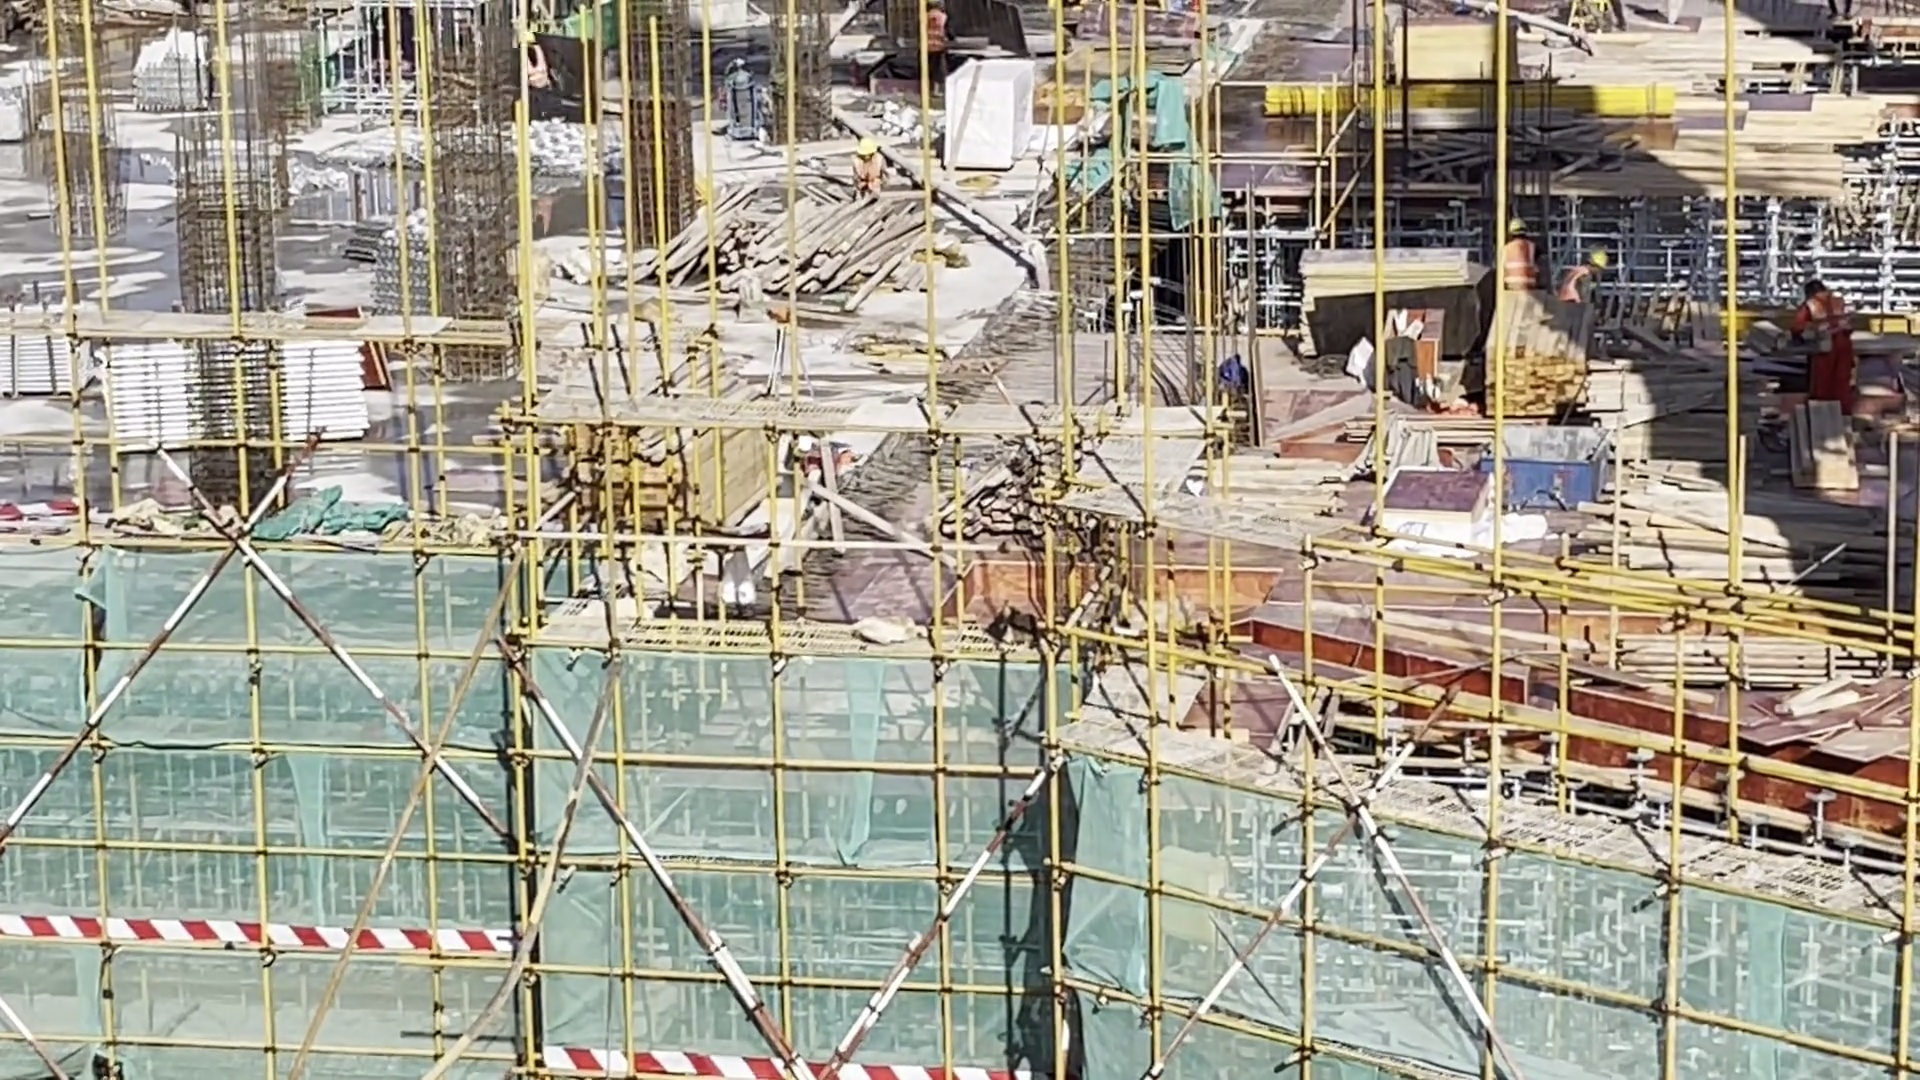board: (1729, 665, 1919, 775)
helmet: (1584, 250, 1608, 274), (791, 432, 816, 455), (1505, 215, 1524, 236), (860, 139, 878, 157)
hopper: (1496, 409, 1619, 516)
person: (1781, 271, 1866, 410), (514, 28, 567, 114), (1554, 242, 1608, 309), (1493, 217, 1539, 290), (850, 134, 891, 199)
scaffold: (99, 338, 367, 437), (1, 304, 94, 409)
vest: (1798, 295, 1849, 352), (1505, 243, 1534, 282), (1558, 266, 1587, 303), (854, 157, 880, 190)
wood: (515, 345, 759, 539), (652, 200, 930, 330), (1591, 461, 1833, 594), (1585, 618, 1870, 692), (1467, 318, 1603, 441)
